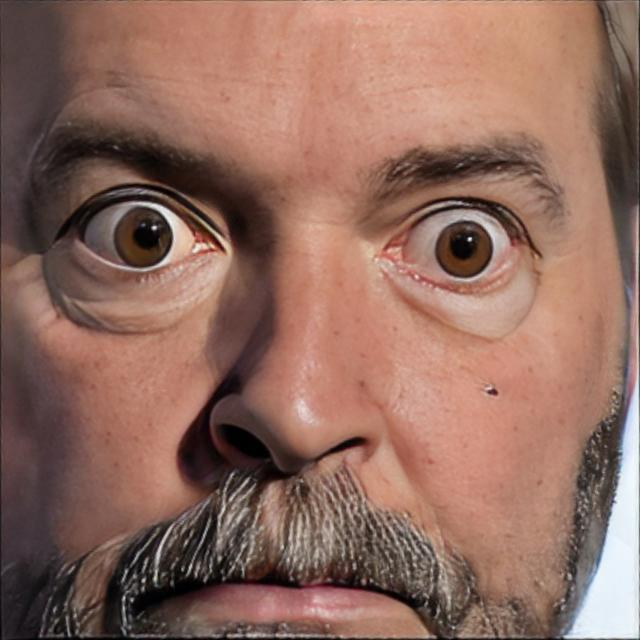fear: (4, 0, 627, 640)
